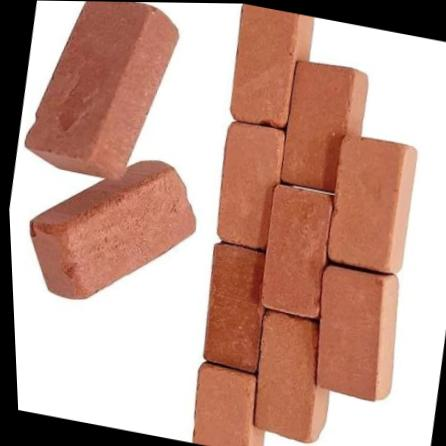brick: (51, 155, 209, 317), (20, 0, 160, 169), (318, 131, 417, 274), (304, 264, 402, 401), (251, 183, 338, 318), (241, 312, 329, 444), (274, 60, 360, 194), (220, 3, 305, 131), (207, 120, 290, 250), (193, 242, 274, 371), (185, 362, 262, 446)
